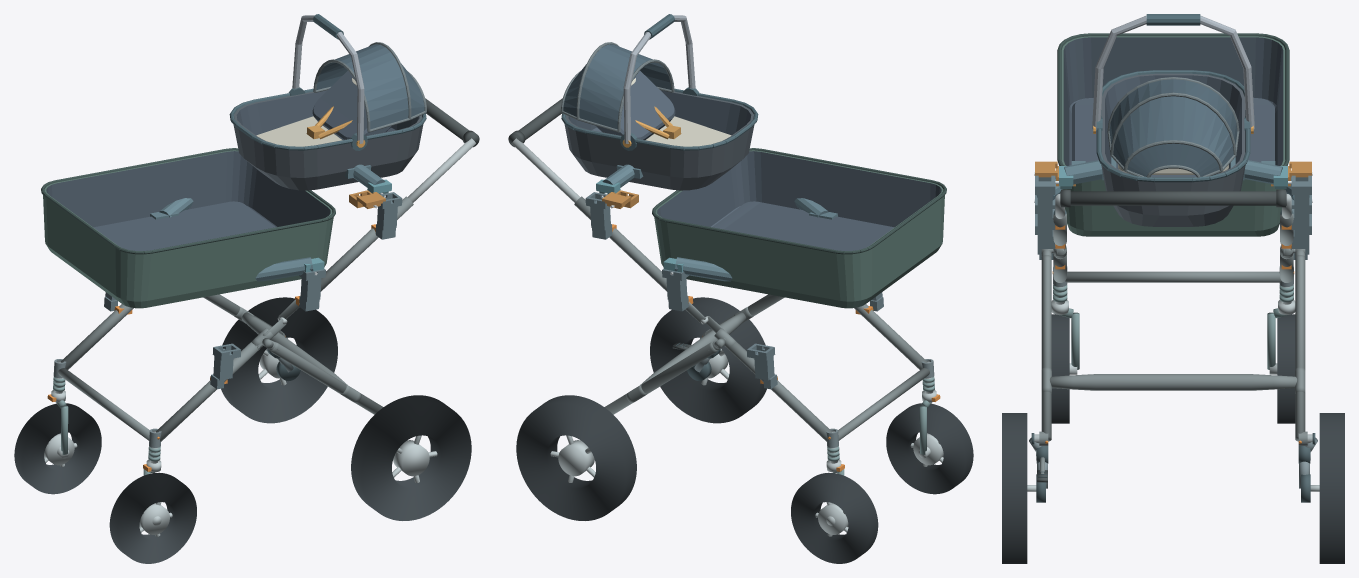
The model's file is D13_w650_state1_wheel_L.glb.
The picture shows the model from 3 angles, left to right: view 1: azimuth 30°, elevation 25°; view 2: azimuth 150°, elevation 25°; view 3: azimuth 270°, elevation 25°; orthographic projection. The views are drawn at different scales.
Visible parts, largest first — view 1: D13_Lower, D13_Upper, RL_tire.008, RR_tire.008, FL_tire.008, FR_tire.008, D13_Lower_Mount_M, V46_rear_leg_-1.009, main_lower_-1.009, front_fixed_round_tube.008, main_upper_-1.009, main_lower_1.009 (+9 smaller); view 2: D13_Lower, D13_Upper, RR_tire.008, RL_tire.008, FR_tire.008, FL_tire.008, D13_Lower_Mount_M, V46_rear_leg_1.009, main_lower_1.009, front_fixed_round_tube.008, main_upper_1.009, main_lower_-1.009 (+9 smaller); view 3: D13_Upper, D13_Lower, V46_rearbar.009, RL_tire.008, RR_tire.008, round_handle.008, front_fixed_round_tube.008, D13_Upper_Mount_H, FL_tire.008, FR_tire.008, V46_rear_leg_1.009, V46_rear_leg_-1.009 (+6 smaller).
Part boxes in pixels (x1=…): D13_Lower: x1=41, y1=148, x2=335, y2=308; D13_Upper: x1=229, y1=14, x2=426, y2=190; RL_tire.008: x1=351, y1=395, x2=471, y2=520; RR_tire.008: x1=221, y1=297, x2=337, y2=423; FL_tire.008: x1=109, y1=472, x2=196, y2=563; FR_tire.008: x1=14, y1=403, x2=101, y2=494; D13_Lower_Mount_M: x1=150, y1=198, x2=324, y2=281; V46_rear_leg_-1.009: x1=270, y1=342, x2=383, y2=414; main_lower_-1.009: x1=156, y1=342, x2=262, y2=441; front_fixed_round_tube.008: x1=58, y1=368, x2=149, y2=440; main_upper_-1.009: x1=320, y1=196, x2=413, y2=291; main_lower_1.009: x1=61, y1=304, x2=133, y2=369; D13_Lower: x1=652, y1=148, x2=946, y2=308; D13_Upper: x1=561, y1=14, x2=758, y2=190; RR_tire.008: x1=516, y1=395, x2=636, y2=520; RL_tire.008: x1=650, y1=297, x2=766, y2=423; FR_tire.008: x1=791, y1=472, x2=878, y2=563; FL_tire.008: x1=886, y1=403, x2=973, y2=494; D13_Lower_Mount_M: x1=663, y1=198, x2=837, y2=281; V46_rear_leg_1.009: x1=604, y1=342, x2=717, y2=414; main_lower_1.009: x1=725, y1=342, x2=831, y2=441; front_fixed_round_tube.008: x1=838, y1=368, x2=929, y2=440; main_upper_1.009: x1=574, y1=196, x2=667, y2=291; main_lower_-1.009: x1=854, y1=304, x2=926, y2=369; D13_Upper: x1=1092, y1=14, x2=1254, y2=226; D13_Lower: x1=1057, y1=33, x2=1289, y2=236; V46_rearbar.009: x1=1050, y1=374, x2=1296, y2=390; RL_tire.008: x1=1002, y1=413, x2=1027, y2=563; RR_tire.008: x1=1319, y1=413, x2=1344, y2=563; round_handle.008: x1=1060, y1=191, x2=1286, y2=205; front_fixed_round_tube.008: x1=1065, y1=271, x2=1281, y2=282; D13_Upper_Mount_H: x1=1055, y1=157, x2=1291, y2=188; FL_tire.008: x1=1051, y1=314, x2=1069, y2=423; FR_tire.008: x1=1277, y1=314, x2=1295, y2=423; V46_rear_leg_1.009: x1=1295, y1=255, x2=1305, y2=441; V46_rear_leg_-1.009: x1=1041, y1=255, x2=1051, y2=441.
Bounding box in the file's own units: 1.2 × 1.4 × 0.8171.
